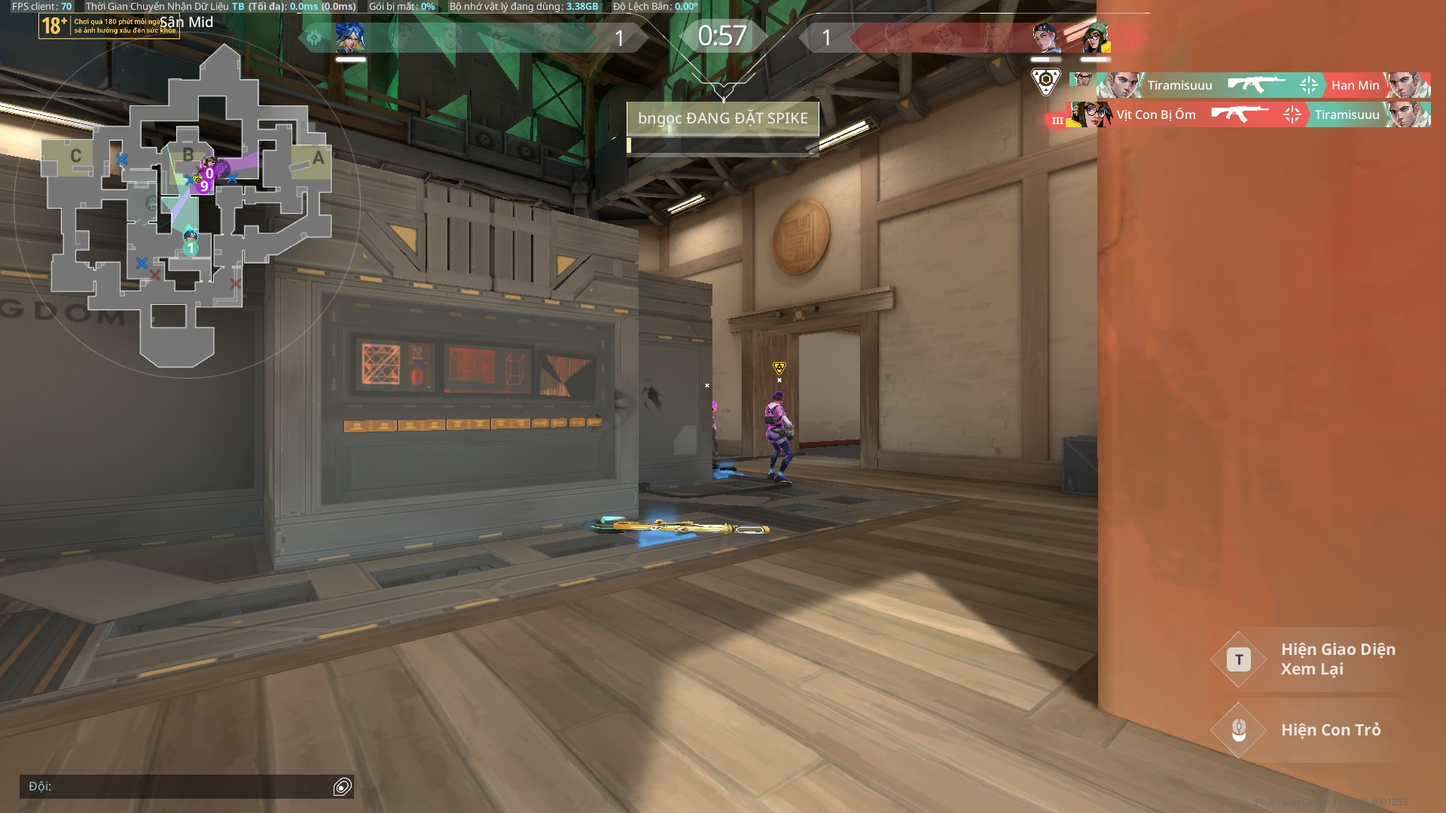body: (764, 401, 786, 428), (712, 400, 717, 422)
head: (772, 390, 784, 401)
